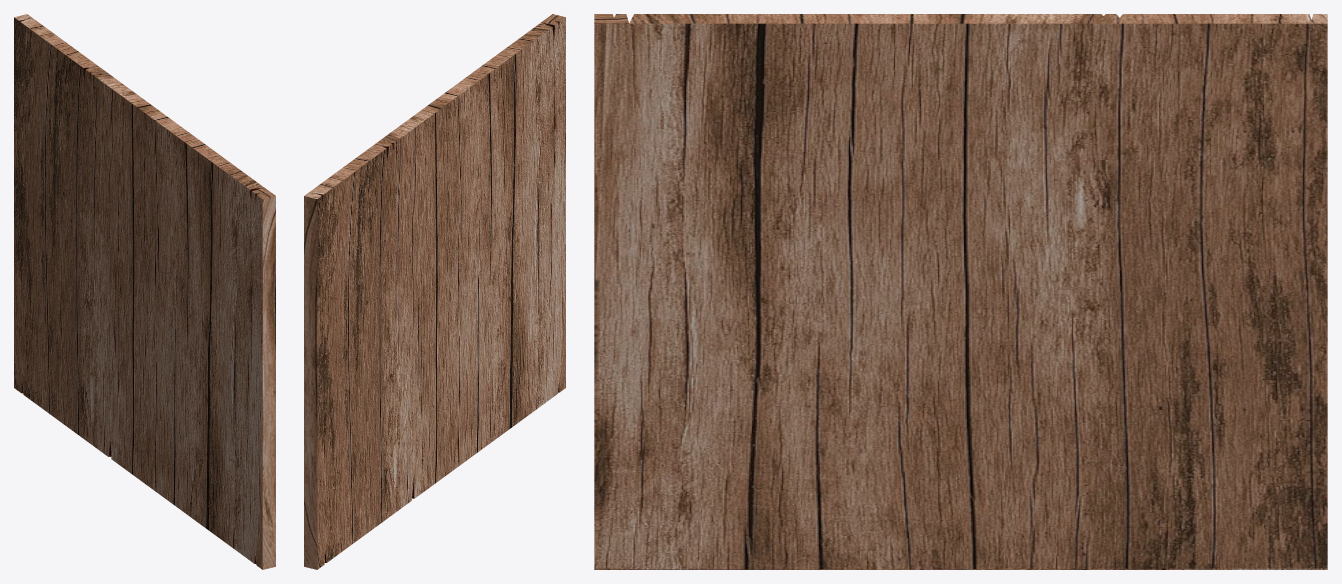
Rendered from Loft_plankfloor_ver3.fbx.
The picture shows the model from 3 angles, left to right: view 1: azimuth 30°, elevation 25°; view 2: azimuth 150°, elevation 25°; view 3: azimuth 270°, elevation 25°; orthographic projection. The views are drawn at different scales.
Visible parts, largest first — view 1: Cube; view 2: Cube; view 3: Cube.
Boxes of the visible parts, <box> form: Cube: <box>14,14,275,569</box>; Cube: <box>304,14,565,569</box>; Cube: <box>594,14,1327,569</box>.
Bounding box in the file's own units: 73.5 × 1965 × 2389.
1 material, 1 textured.
